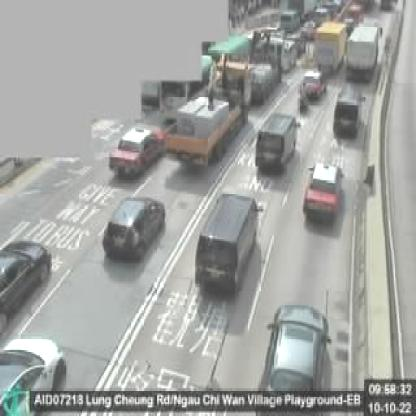Car: (253, 301, 329, 416), (196, 192, 260, 295), (0, 238, 51, 345), (0, 335, 68, 414), (104, 197, 165, 262), (108, 124, 161, 178), (304, 161, 347, 225), (256, 113, 300, 174), (332, 90, 364, 136), (300, 68, 327, 102), (301, 17, 322, 39), (381, 1, 395, 12)
Minibus: (160, 53, 214, 118), (208, 32, 252, 71)
Truck: (169, 52, 257, 176), (243, 32, 285, 101), (343, 20, 381, 81), (314, 18, 348, 73), (264, 28, 298, 74)
